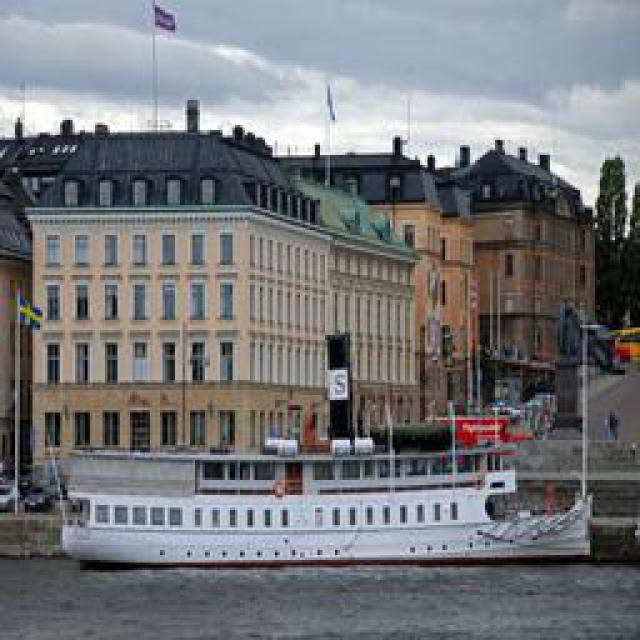Ship: (57, 424, 587, 569)
